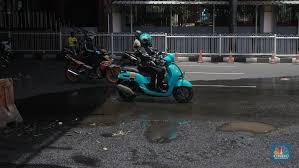Pothole: (211, 108, 284, 141), (136, 114, 195, 149), (90, 114, 136, 140), (67, 150, 108, 168)
